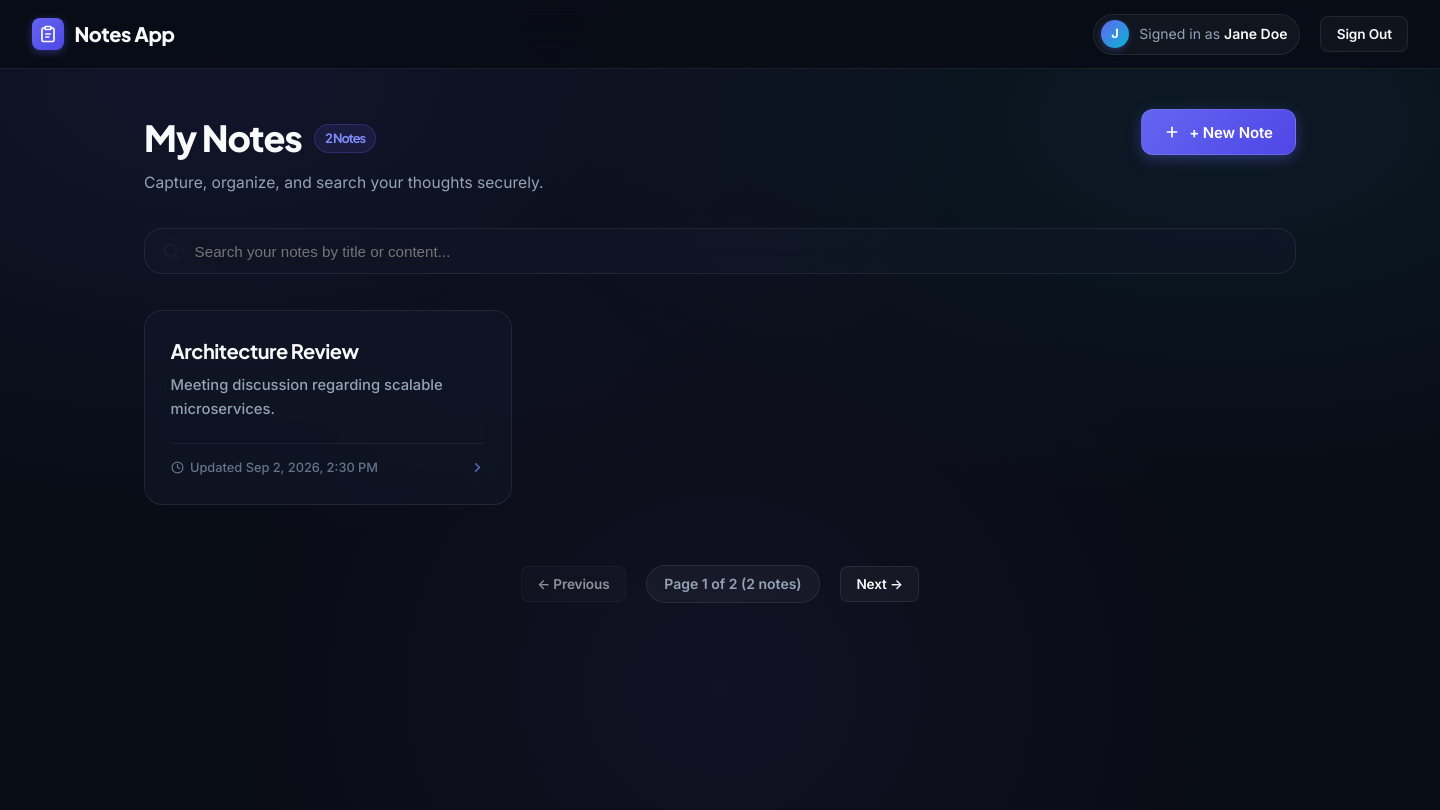
Test case: Notes Dashboard Feature › supports pagination controls navigation and boundary states
expect the heading "Architecture Review" is shown: met, box [171,338,359,363]
expect the text with test id "pagination-info" reads "Page 1 of 2 (2 notes)": met, box [646,565,820,604]
What coordinates should you click on to do the following:
click the button with test id "pagination-next"
I would click on:
 (880, 584)
Its box is [840,566,919,602].
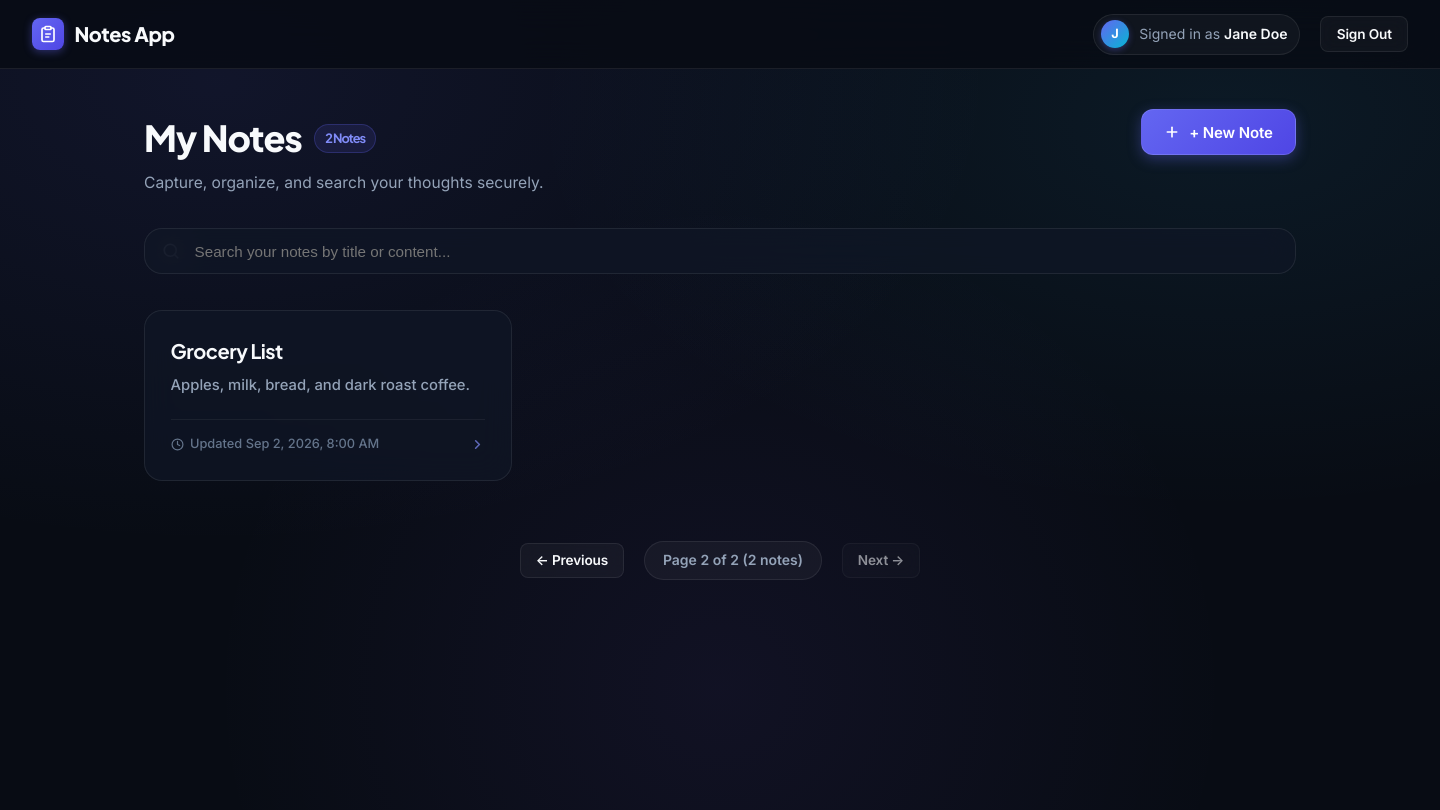
expect the heading "Grocery List" is shown: met, box [171,338,283,363]
expect the text with test id "pagination-info" reads "Page 2 of 2 (2 notes)": met, box [644,541,822,580]
expect the button with test id "pagination-prev" is enabled: met, box [520,543,624,578]
